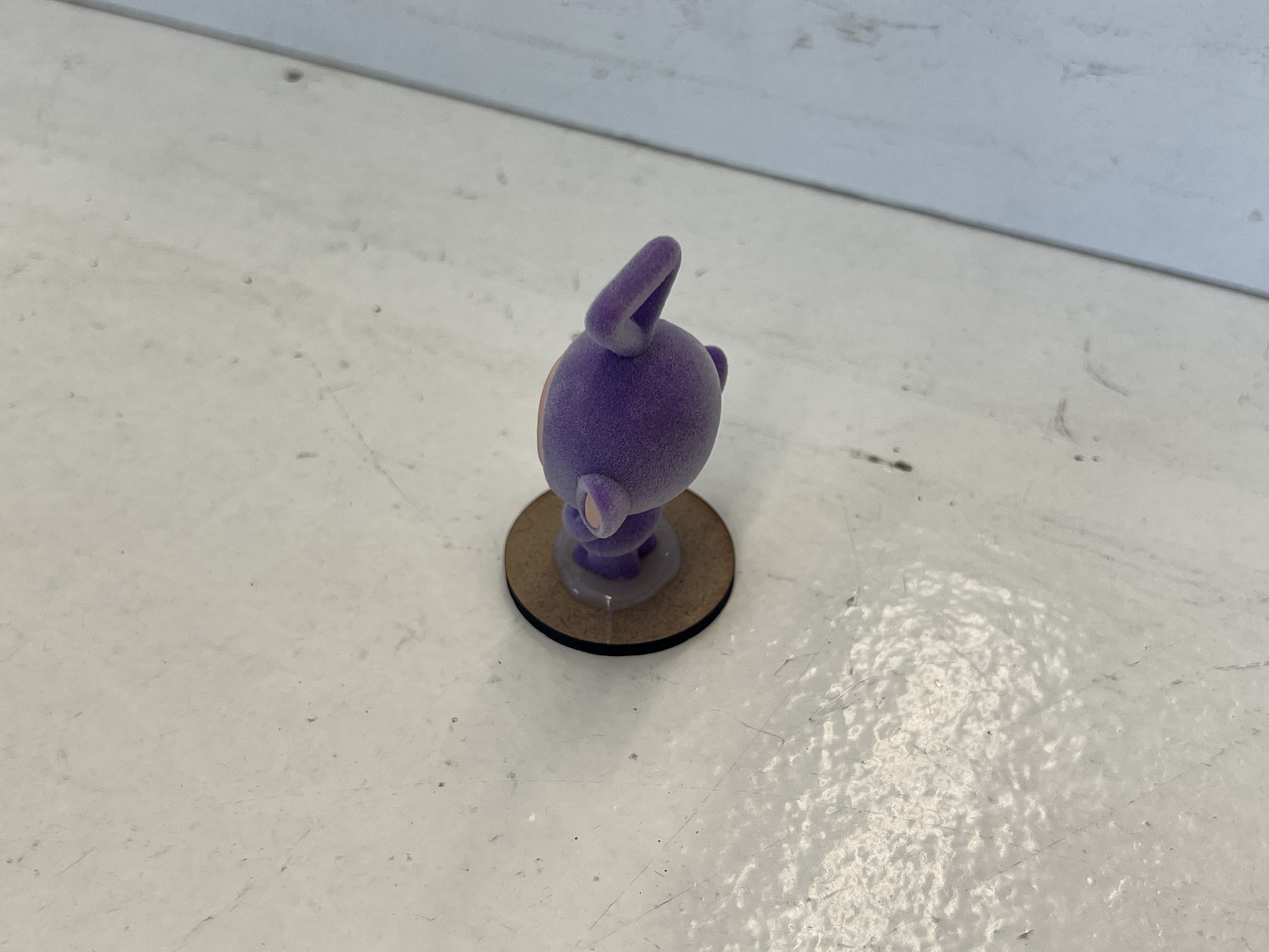teletubby: (538, 236, 727, 579)
